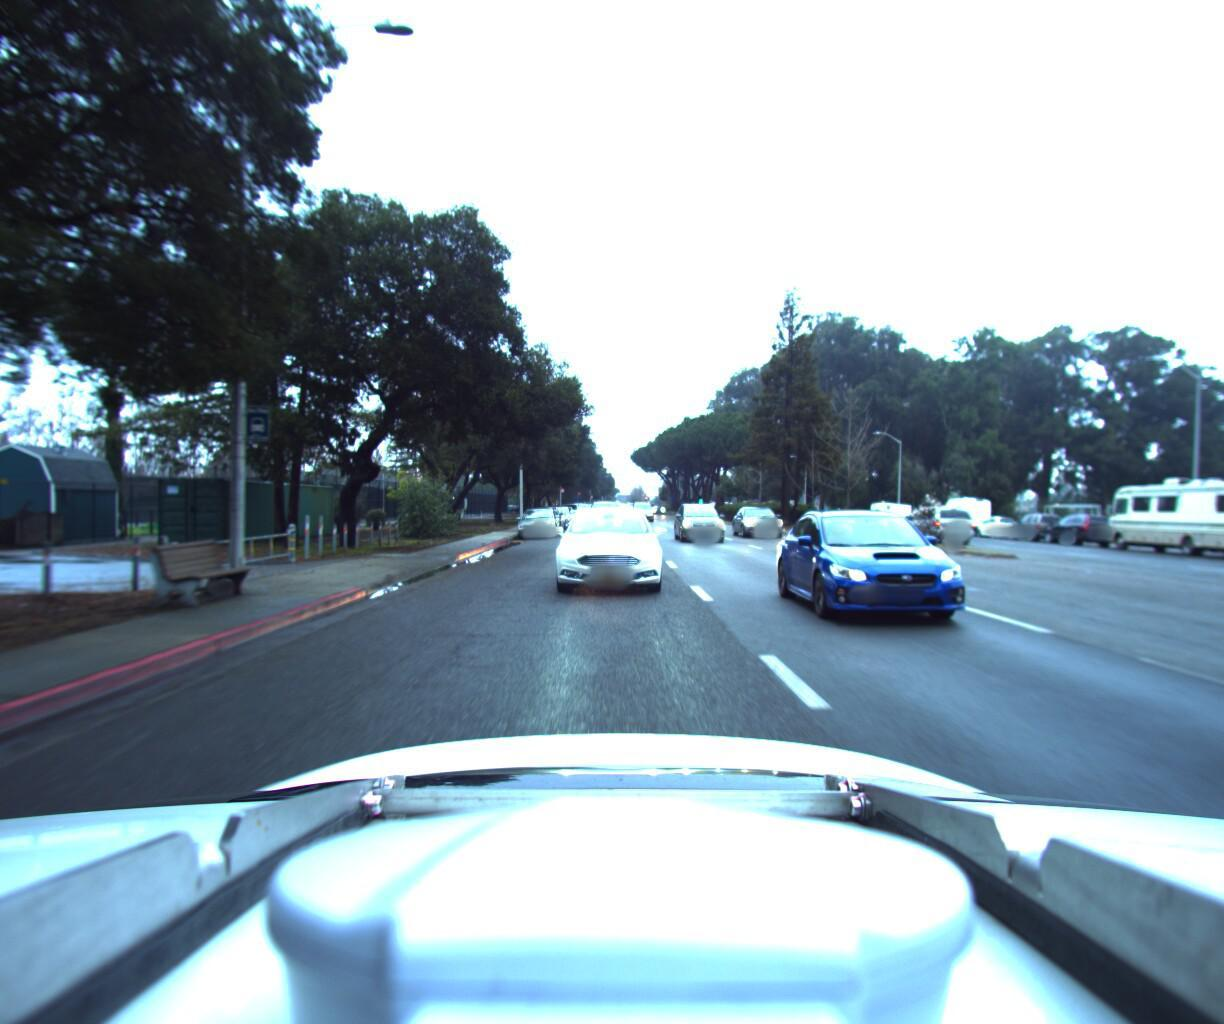car: (788, 500, 1037, 648), (555, 500, 666, 601), (891, 494, 970, 535), (1041, 506, 1119, 546), (932, 489, 995, 534), (675, 499, 731, 542), (1004, 504, 1069, 541), (736, 500, 793, 535), (514, 501, 562, 536), (974, 508, 1025, 537), (596, 500, 628, 531), (545, 500, 575, 523), (629, 496, 656, 518)
other_vehicle: (1104, 461, 1224, 565)
truck: (866, 493, 913, 527)
